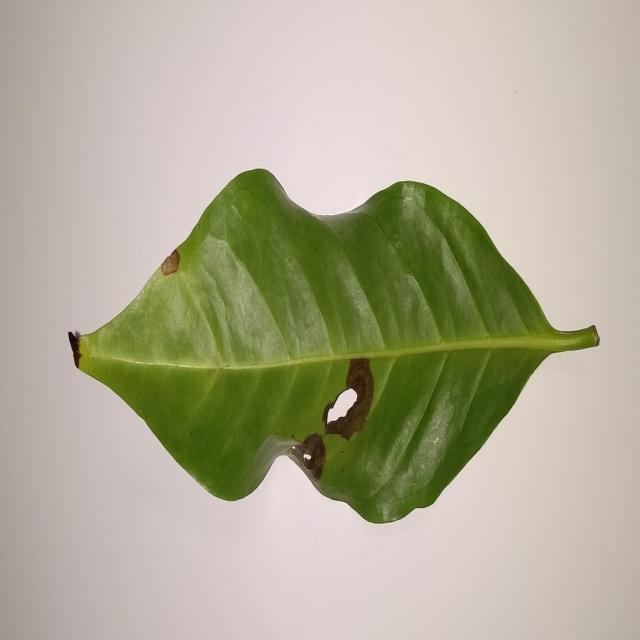Enfermedad-Antracnosis: (66, 169, 601, 527)
